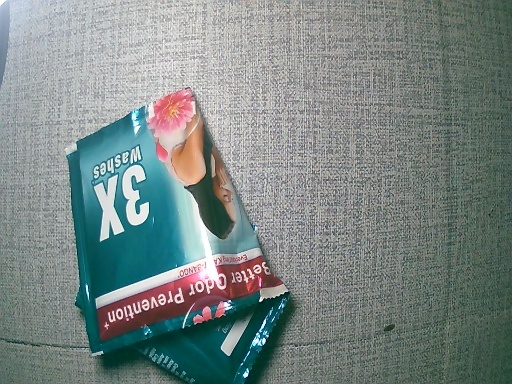plastic: (65, 85, 295, 384)
